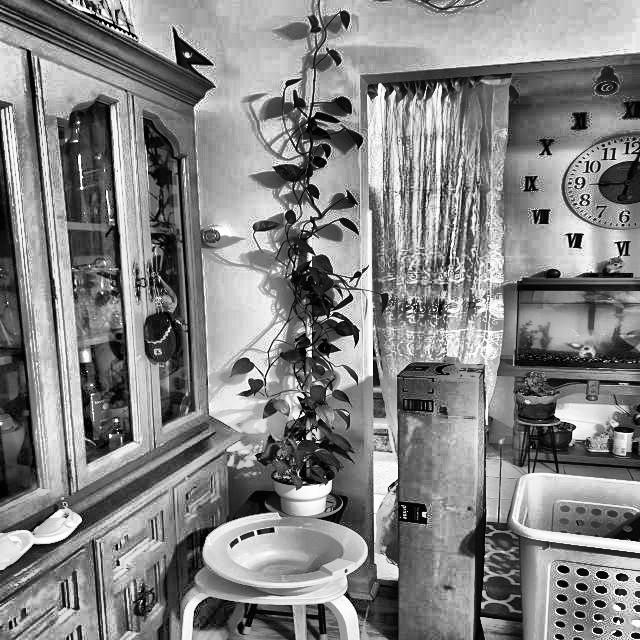plants: (244, 199, 374, 473)
